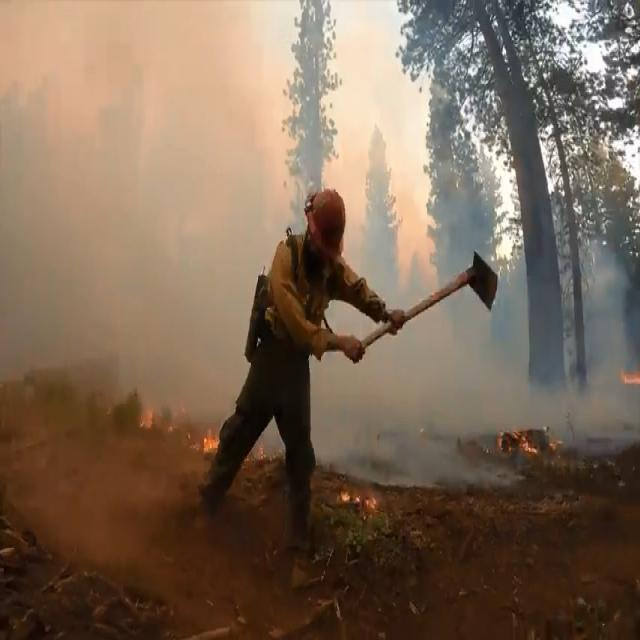Fire: (130, 392, 220, 460), (331, 467, 388, 520), (621, 356, 640, 395)
